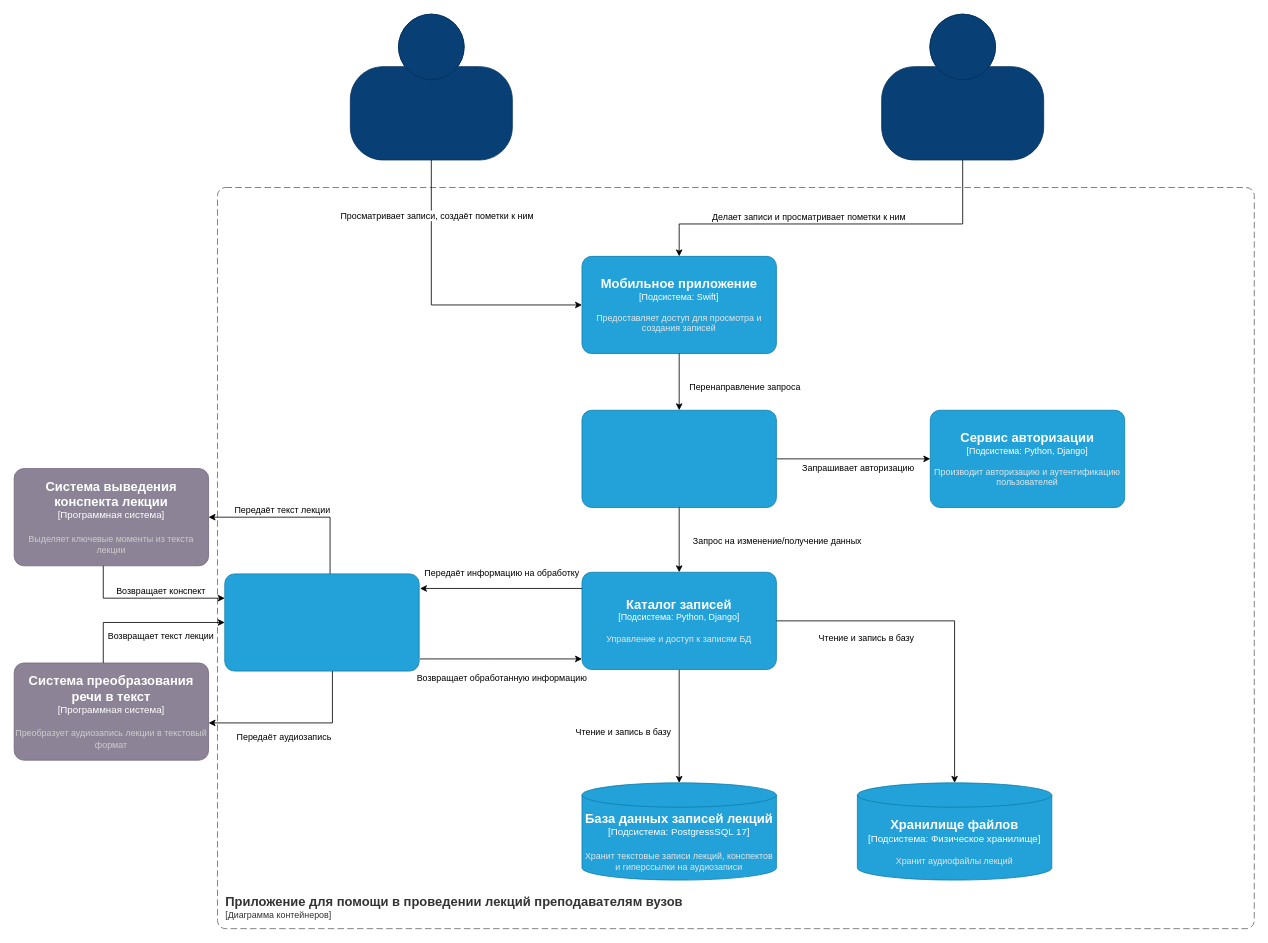
Some shapes in this 1268 by 943 pixel diagram are drawn without their labels. Here are the shapes that lost their labels. From the top down, the centre of each, then its label:
the point at 431,86: Студент [Пользователь] Что слушает лекцию
the point at 962,86: Преподаватель [Пользователь] Ведёт лекцию
the point at 678,458: Балансировщик соединений [Подсистема: Nginx] Управление запросами к системе
the point at 321,622: Сервис API [Подсистема: Python, Django] Взаимодействие со сторонними сервисами
